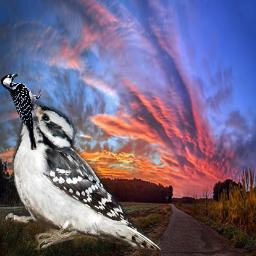Woodpecker: (0, 90, 161, 250), (0, 71, 41, 150)
